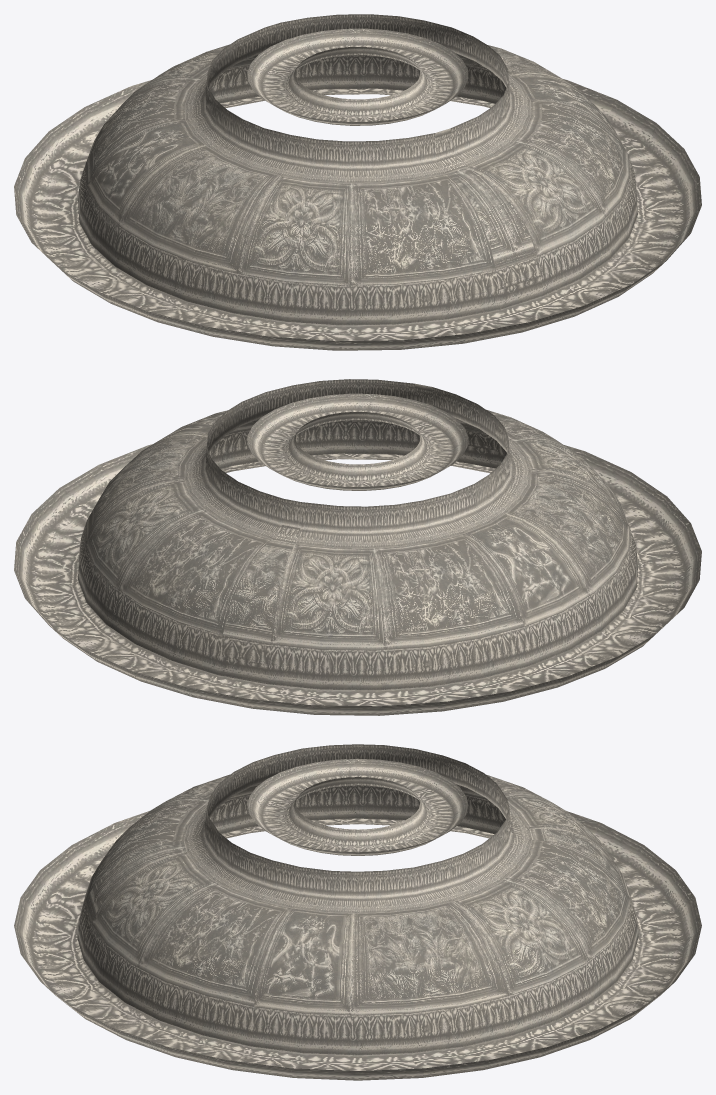
The model's file is Dometop.fbx.
3 renders of one model, top to bottom at view 1: azimuth 30°, elevation 25°; view 2: azimuth 150°, elevation 25°; view 3: azimuth 270°, elevation 25°, orthographic.
Visible parts, largest first — view 1: CeilingDome; view 2: CeilingDome; view 3: CeilingDome.
Part boxes in pixels (x1,y1,x2,y2): CeilingDome: (14, 14, 701, 350); CeilingDome: (14, 379, 701, 715); CeilingDome: (14, 744, 701, 1080).
Size of the model in its own units: 656 by 148 by 656.
